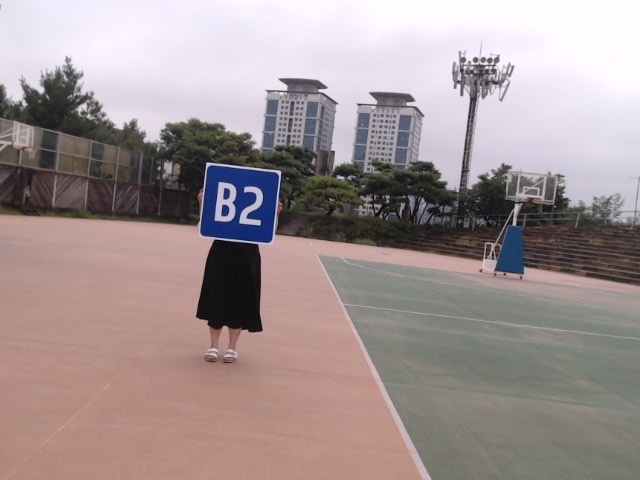delivery_b2: (199, 163, 280, 245)
